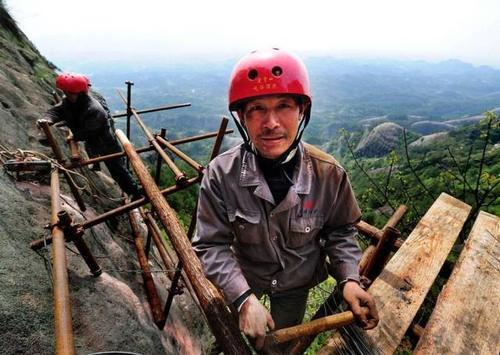helmet: (228, 44, 315, 109), (58, 75, 89, 96)
